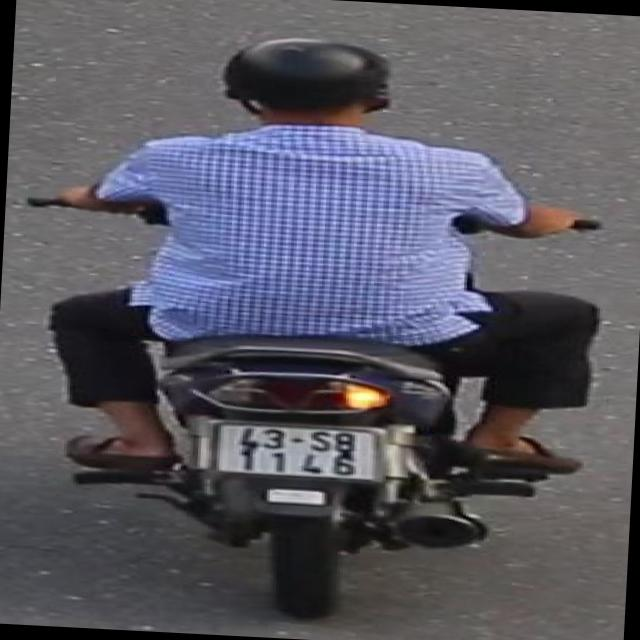LP: (212, 418, 390, 488)
helmet: (206, 29, 409, 153)
